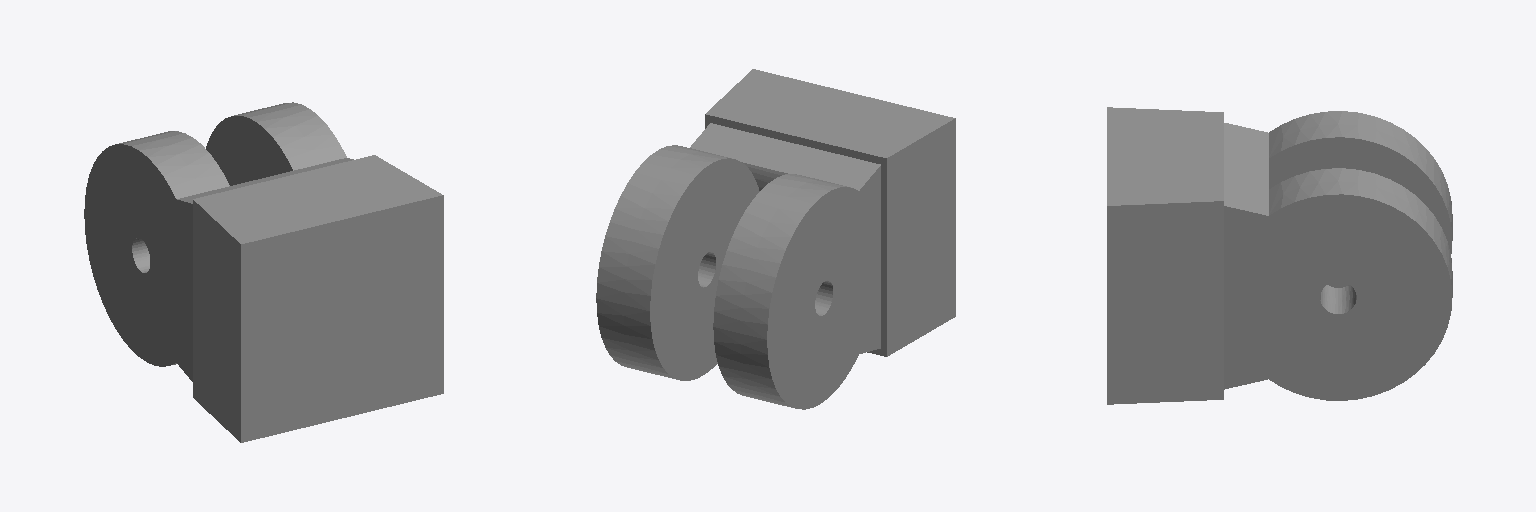
File: pieza5.obj
The picture shows the model from 3 angles: view 1: azimuth 30°, elevation 25°; view 2: azimuth 150°, elevation 25°; view 3: azimuth 270°, elevation 25°; orthographic projection.
Parts seen in each view (by area): view 1: Body1_Body1.004; view 2: Body1_Body1.004; view 3: Body1_Body1.004.
Boxes of the visible parts, <box> form: Body1_Body1.004: <box>84,102,443,442</box>; Body1_Body1.004: <box>596,69,955,409</box>; Body1_Body1.004: <box>1107,107,1452,404</box>.
Bounding box in the file's own units: 0.0813 × 0.0793 × 0.12.